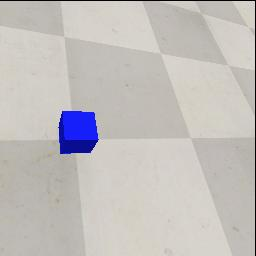box: (58, 111, 99, 154)
